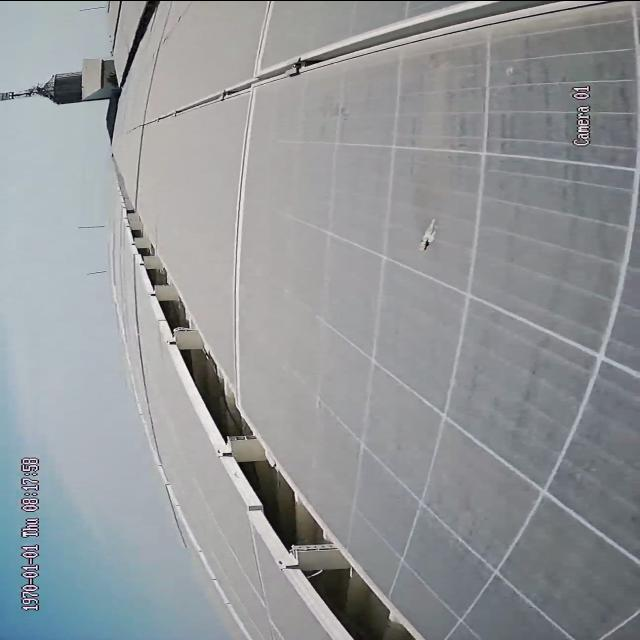interior panel: (146, 0, 608, 381)
outher panel: (117, 183, 425, 636), (123, 1, 163, 84)
